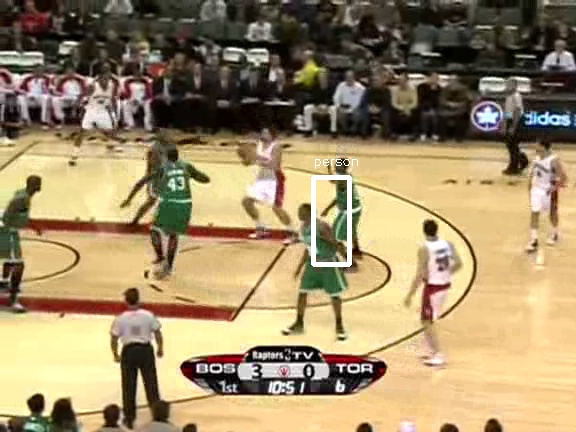person: (331, 168, 365, 249), (330, 168, 364, 249), (332, 168, 366, 249), (331, 167, 365, 248), (331, 169, 365, 250)
target_negative: (135, 87, 487, 431), (23, 176, 231, 426), (72, 244, 402, 366), (65, 145, 138, 422), (346, 282, 468, 363), (348, 330, 447, 361)
